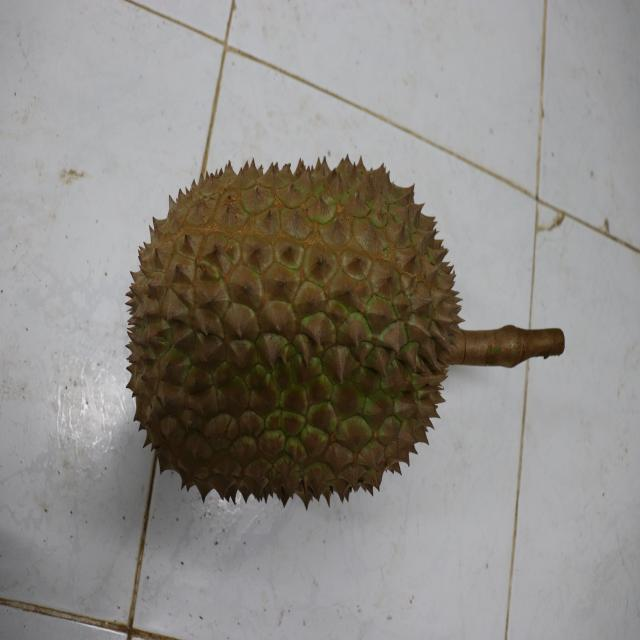mature: (124, 155, 464, 514)
